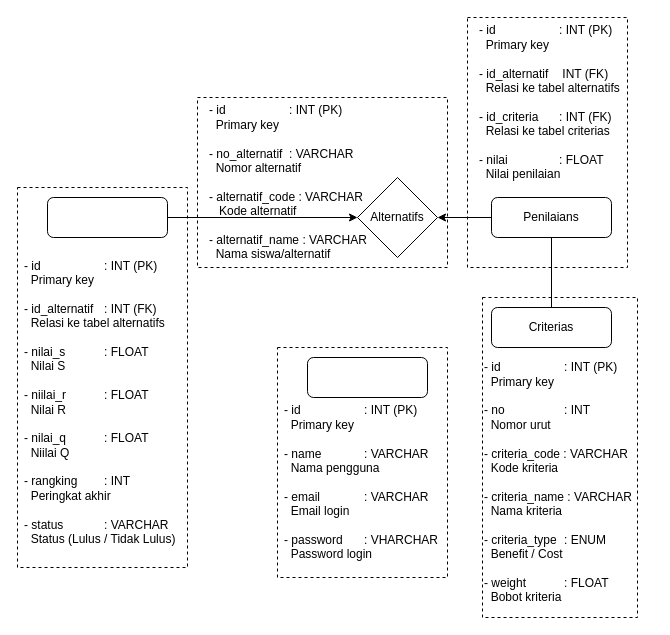
The diagram is 670 pixels wide and 635 high, and some of its shapes have lost their labels. The centre of each missing label's shape, as x and y in pixels:
"Admin" goes at [367,377].
"Hasil_Vikor" goes at [107,217].
